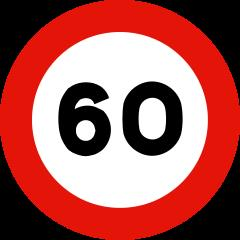Speed Limit -60-: (42, 65, 191, 170)
